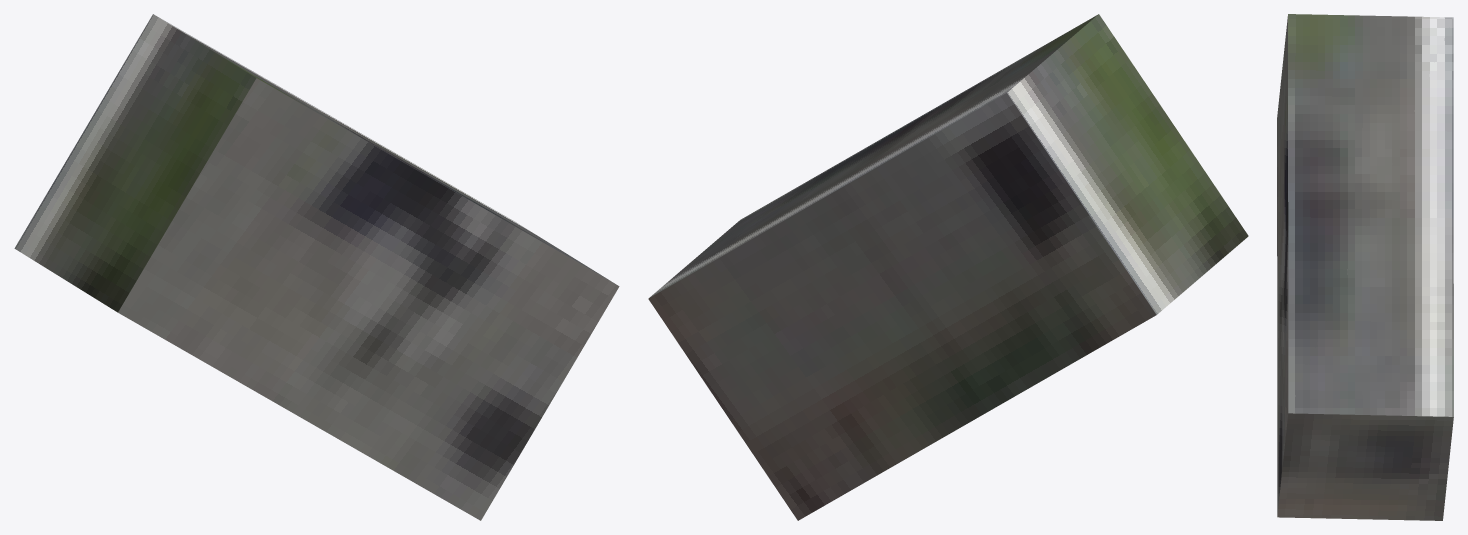
The picture shows the model from 3 angles, left to right: view 1: azimuth 30°, elevation 25°; view 2: azimuth 150°, elevation 25°; view 3: azimuth 270°, elevation 25°; orthographic projection. The views are drawn at different scales.
Visible parts, largest first — view 1: BAG_0599100010047755; view 2: BAG_0599100010047755; view 3: BAG_0599100010047755.
Part boxes in pixels (bbox=[...]): BAG_0599100010047755: bbox=[14, 14, 619, 520]; BAG_0599100010047755: bbox=[648, 14, 1248, 520]; BAG_0599100010047755: bbox=[1277, 14, 1453, 520].
Size of the model in its own units: 5.48 by 5.08 by 1.94.
Materials: 2 (1 with a texture image).
